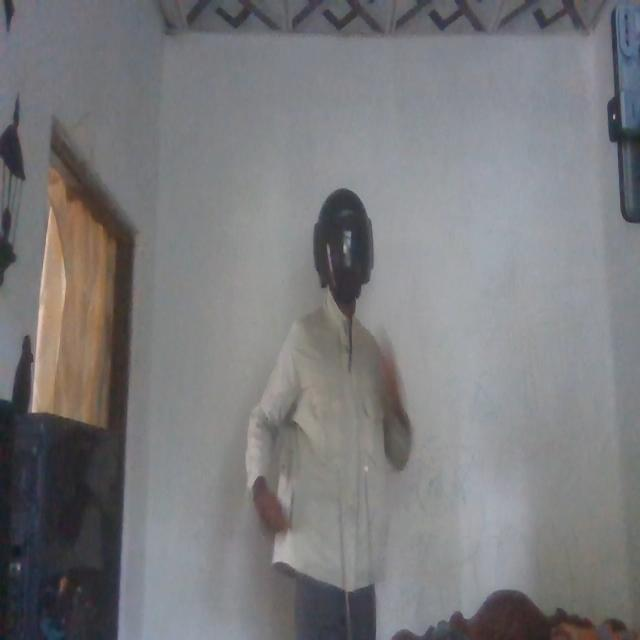Helmet_Wearer: (312, 197, 384, 326)
Person: (248, 188, 414, 640), (247, 305, 411, 595)
